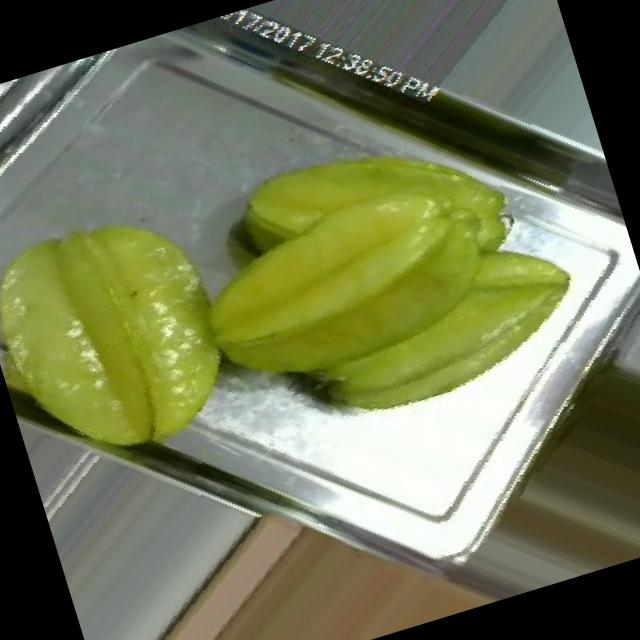fruit: (135, 35, 610, 504), (0, 129, 308, 530), (53, 416, 501, 640)
